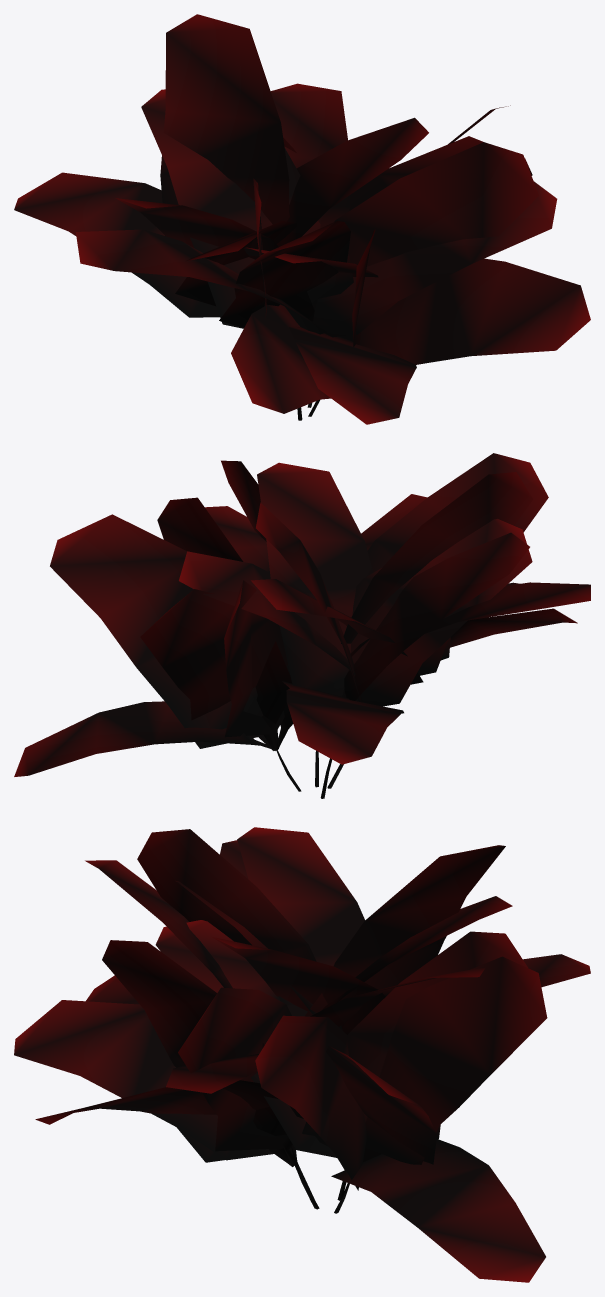
File: Bush01F.fbx
3 renders of one model, top to bottom at view 1: azimuth 30°, elevation 25°; view 2: azimuth 150°, elevation 25°; view 3: azimuth 270°, elevation 25°, orthographic. The views are drawn at different scales.
Parts seen in each view (by area): view 1: Bush01F; view 2: Bush01F; view 3: Bush01F.
Boxes of the visible parts, left/top/right/bottom form: Bush01F: left=14, top=14, right=590, bottom=424; Bush01F: left=14, top=453, right=590, bottom=798; Bush01F: left=14, top=827, right=590, bottom=1282.
Size of the model in its own units: 2.63 by 1.73 by 2.58.
